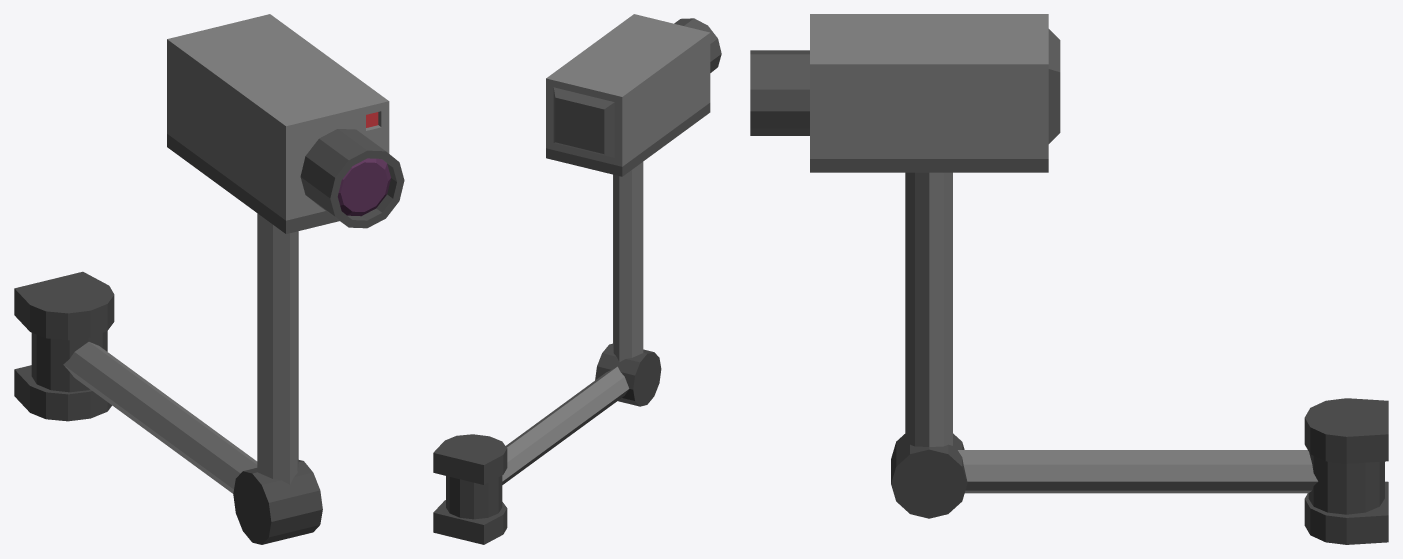
Rendered from Security Camera.fbx.
3 renders of one model, left to right at view 1: azimuth 30°, elevation 25°; view 2: azimuth 150°, elevation 25°; view 3: azimuth 270°, elevation 25°, orthographic. The views are drawn at different scales.
Visible parts, largest first — view 1: Camera, Arm 2, Arm 1, Base; view 2: Camera, Arm 2, Arm 1, Base; view 3: Camera, Arm 1, Arm 2, Base.
Boxes of the visible parts, box(x1,y1,x2,y2) form: Camera: box(167, 14, 404, 233); Arm 2: box(233, 213, 322, 544); Arm 1: box(31, 331, 257, 493); Base: box(14, 271, 114, 421); Camera: box(546, 14, 721, 176); Arm 2: box(595, 162, 661, 406); Arm 1: box(446, 366, 629, 519); Base: box(433, 434, 507, 544); Camera: box(750, 14, 1060, 172); Arm 1: box(958, 450, 1384, 514); Arm 2: box(891, 172, 967, 518); Base: box(1304, 398, 1388, 544).
Size of the model in its own units: 1 by 4.5 by 5.35.
